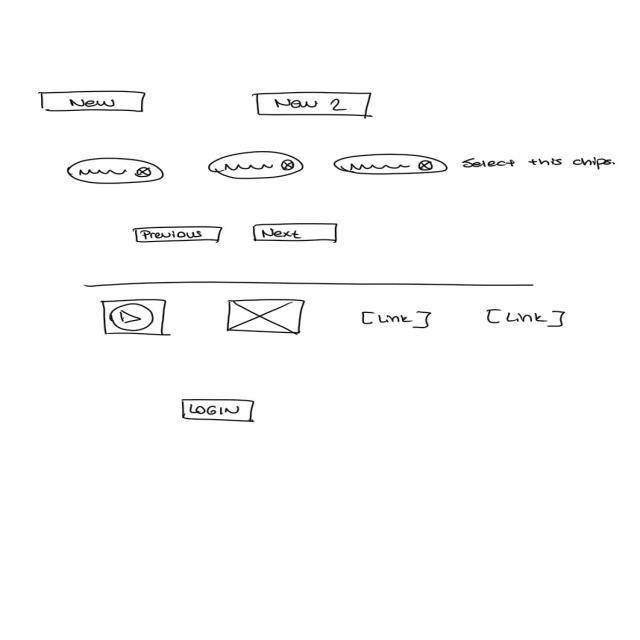button: (254, 92, 374, 119), (40, 91, 148, 113), (183, 399, 259, 423), (253, 223, 341, 243), (135, 226, 225, 244)
image: (226, 299, 309, 337)
label: (463, 158, 617, 172)
link: (488, 310, 568, 330), (361, 310, 433, 332)
